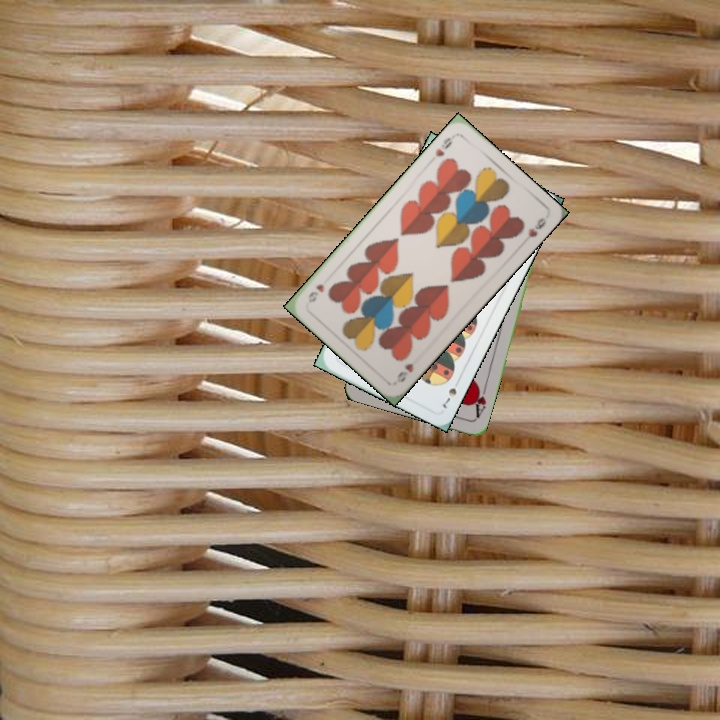H9: (431, 133, 455, 159), (393, 359, 416, 385)
HA: (469, 381, 489, 421)
S7: (438, 374, 463, 411)
